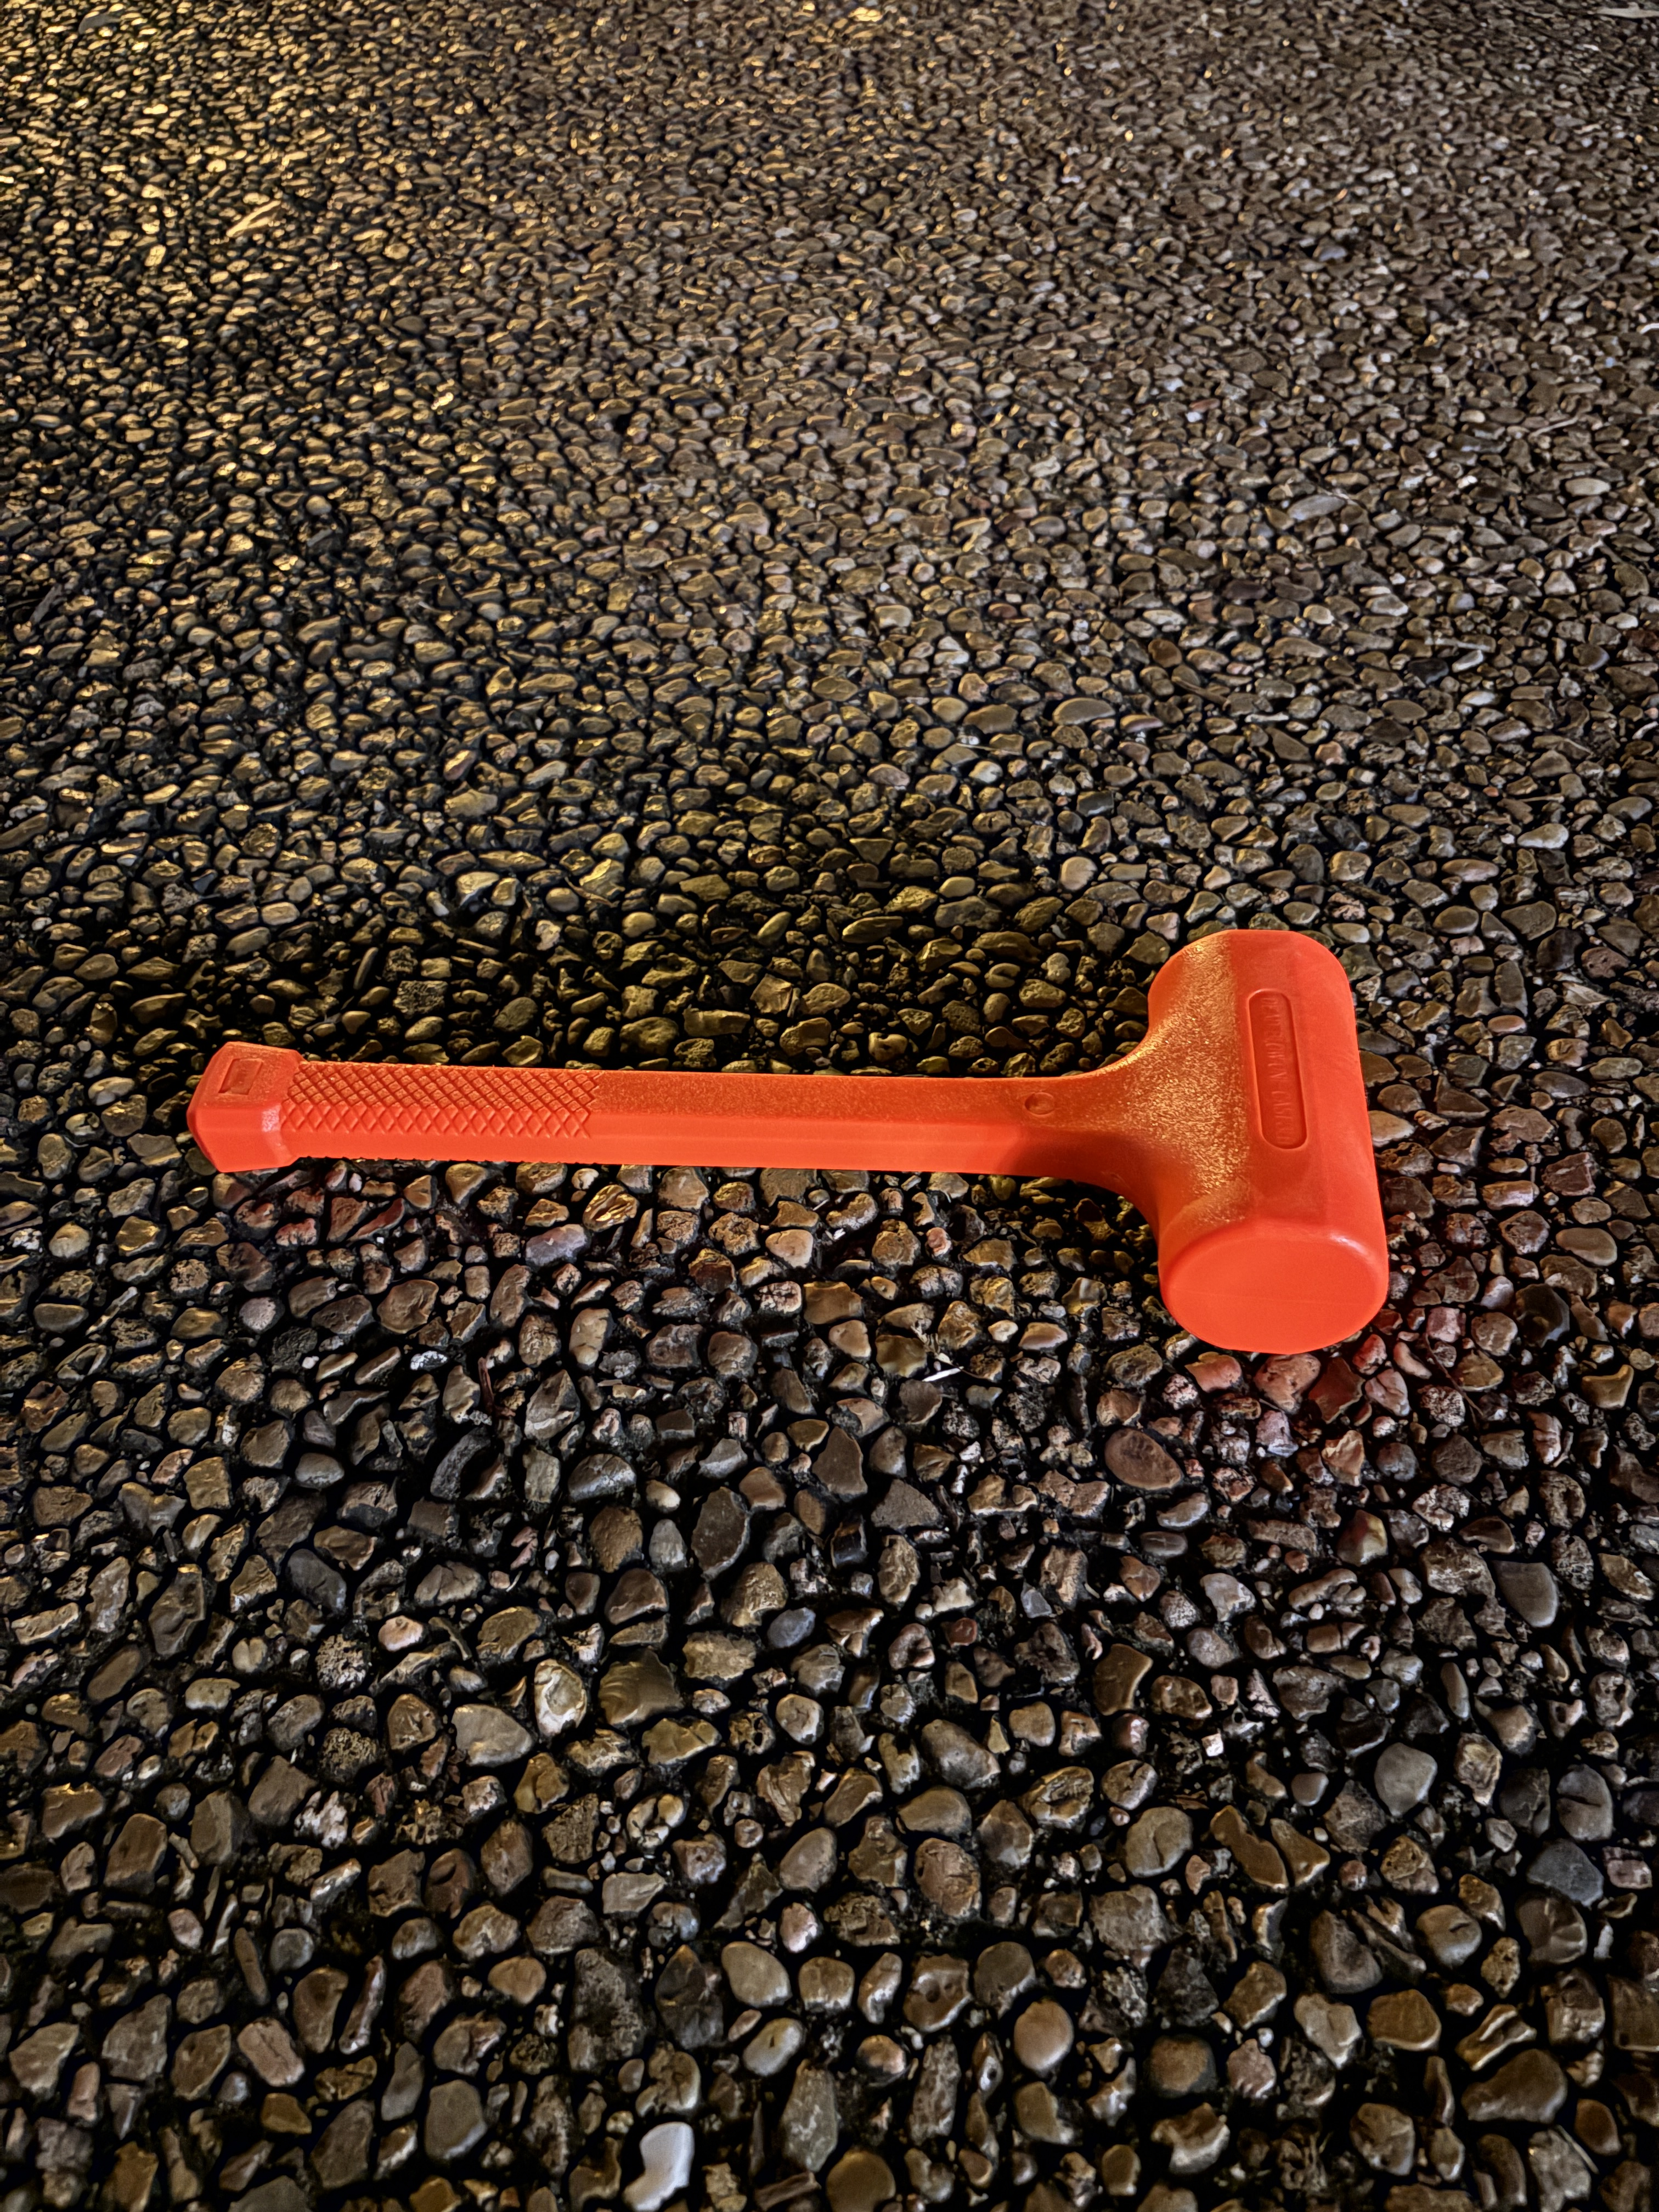Hammer: (166, 838, 1457, 1413)
